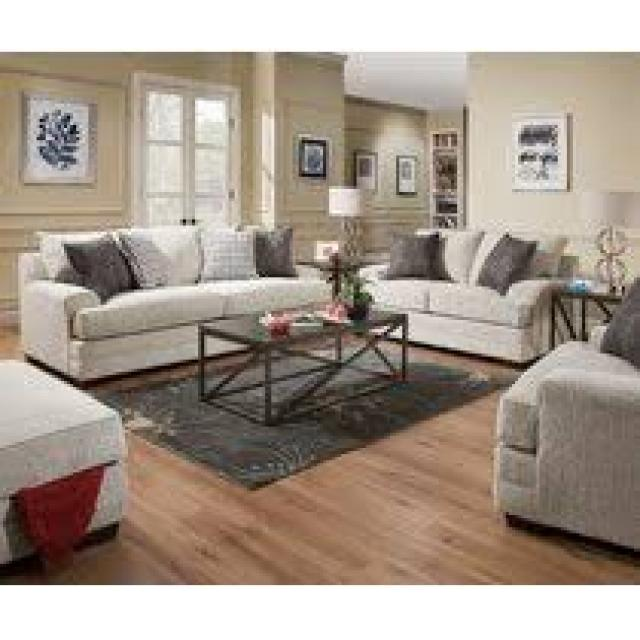Chair: (490, 269, 640, 567)
Lamp: (585, 178, 640, 279), (317, 171, 378, 253)
Sofa: (8, 209, 344, 372), (345, 206, 564, 354)
Table: (180, 288, 417, 421)
